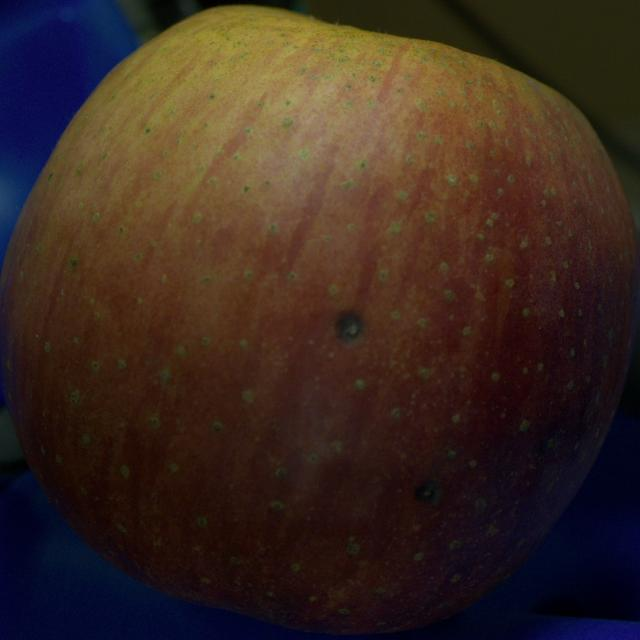apple: (0, 8, 639, 632)
pest: (336, 311, 363, 342), (415, 480, 441, 504)
